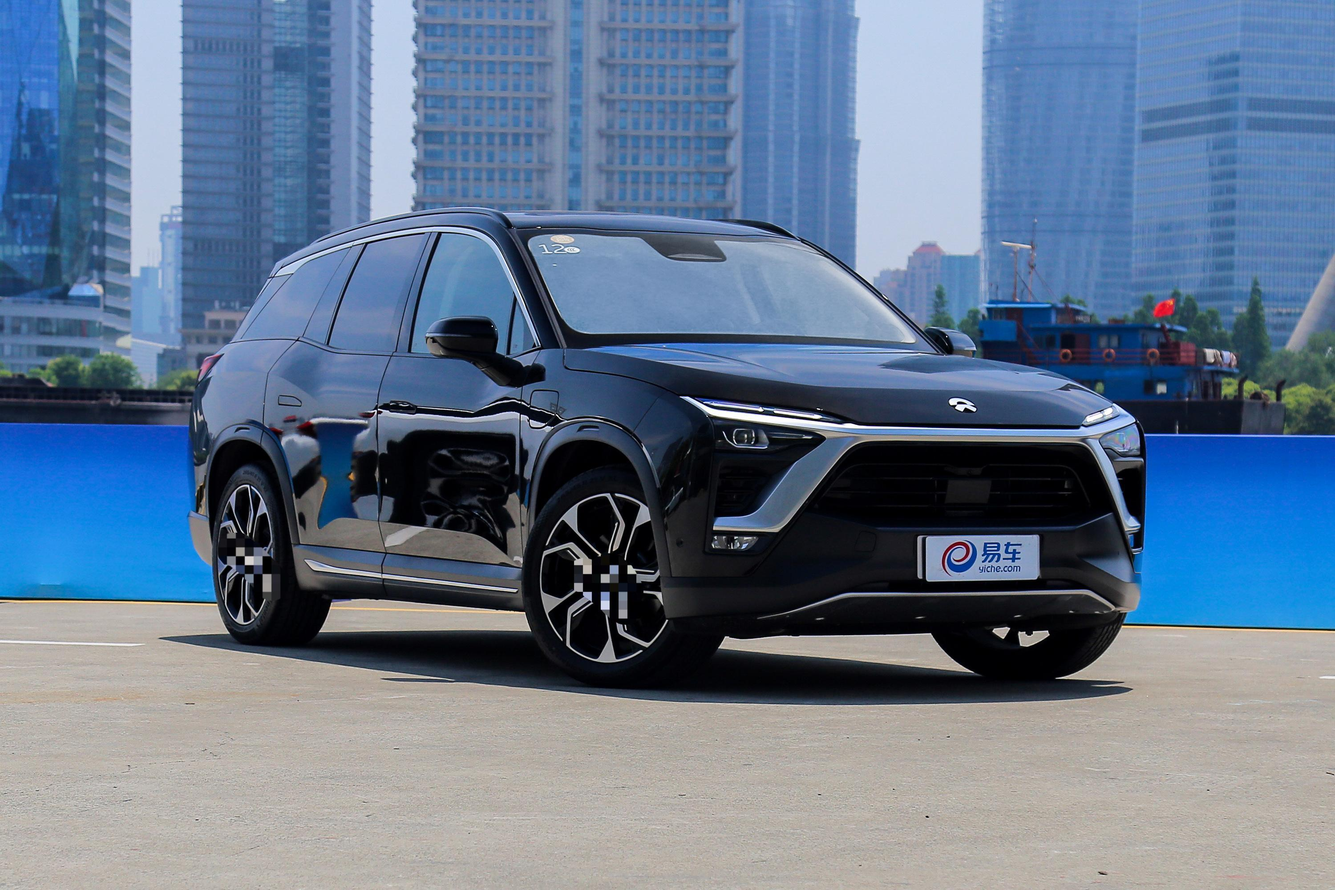NIO: (948, 397, 977, 412)
